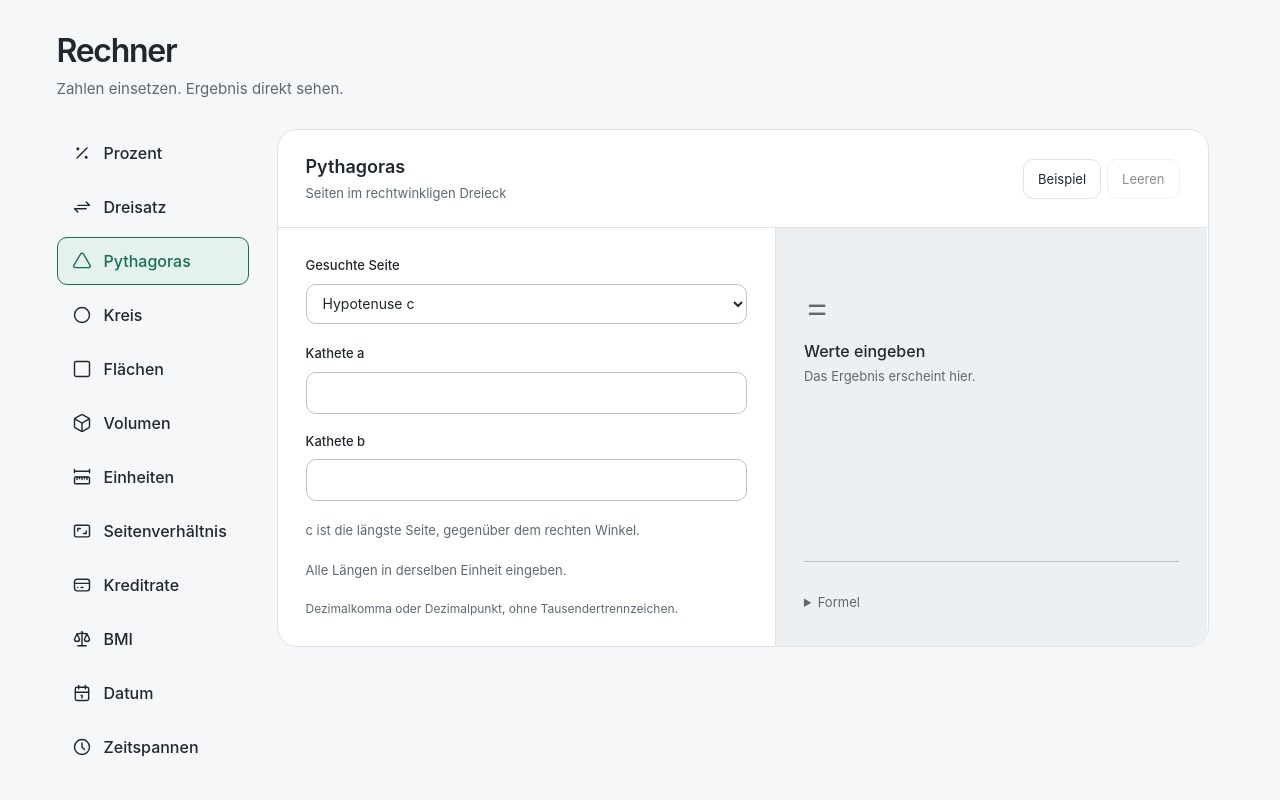
Test: calculator workspace › preserves each form when switching calculators and honours a legacy initial selection
The image size is (1280, 800).
Type "3" into the field labelled "Kathete a" at (526, 393), box [306,372,747,414]
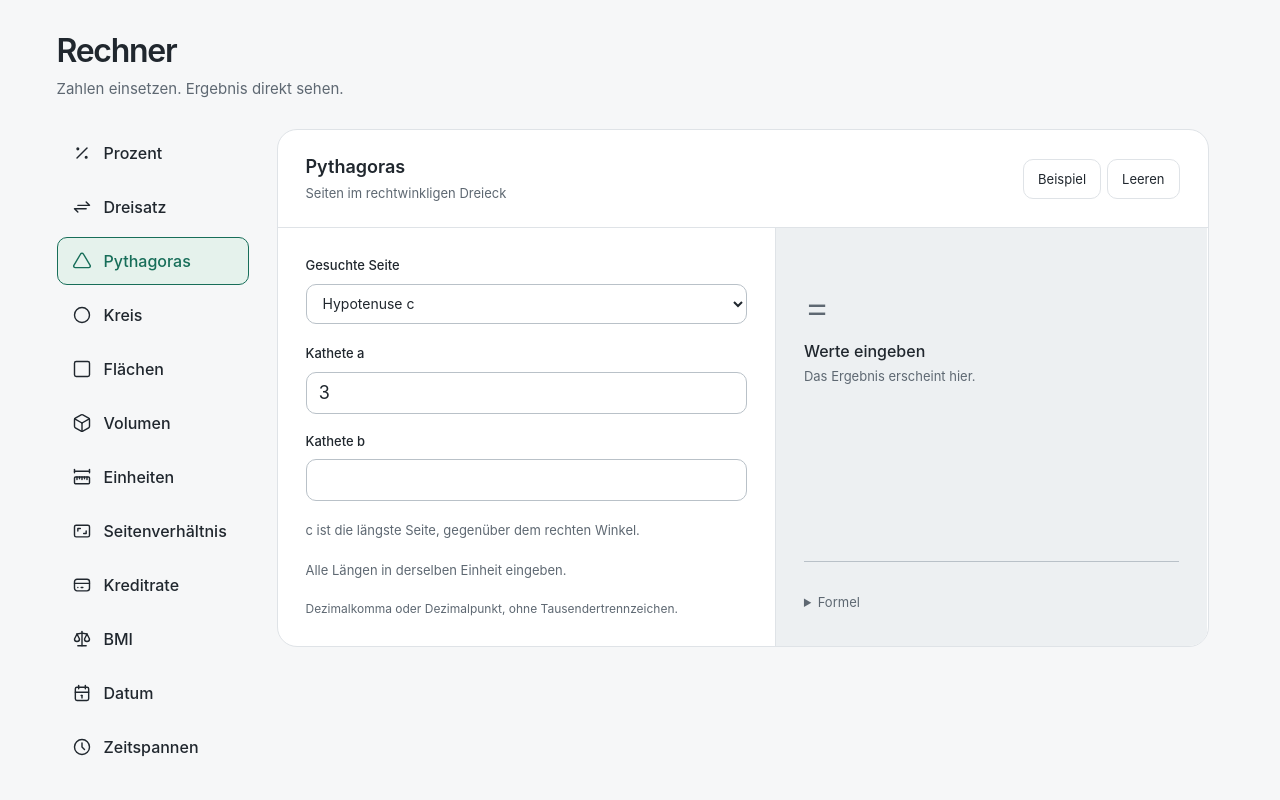
Type "4" into the field labelled "Kathete b" at (526, 480), box [306,459,747,502]
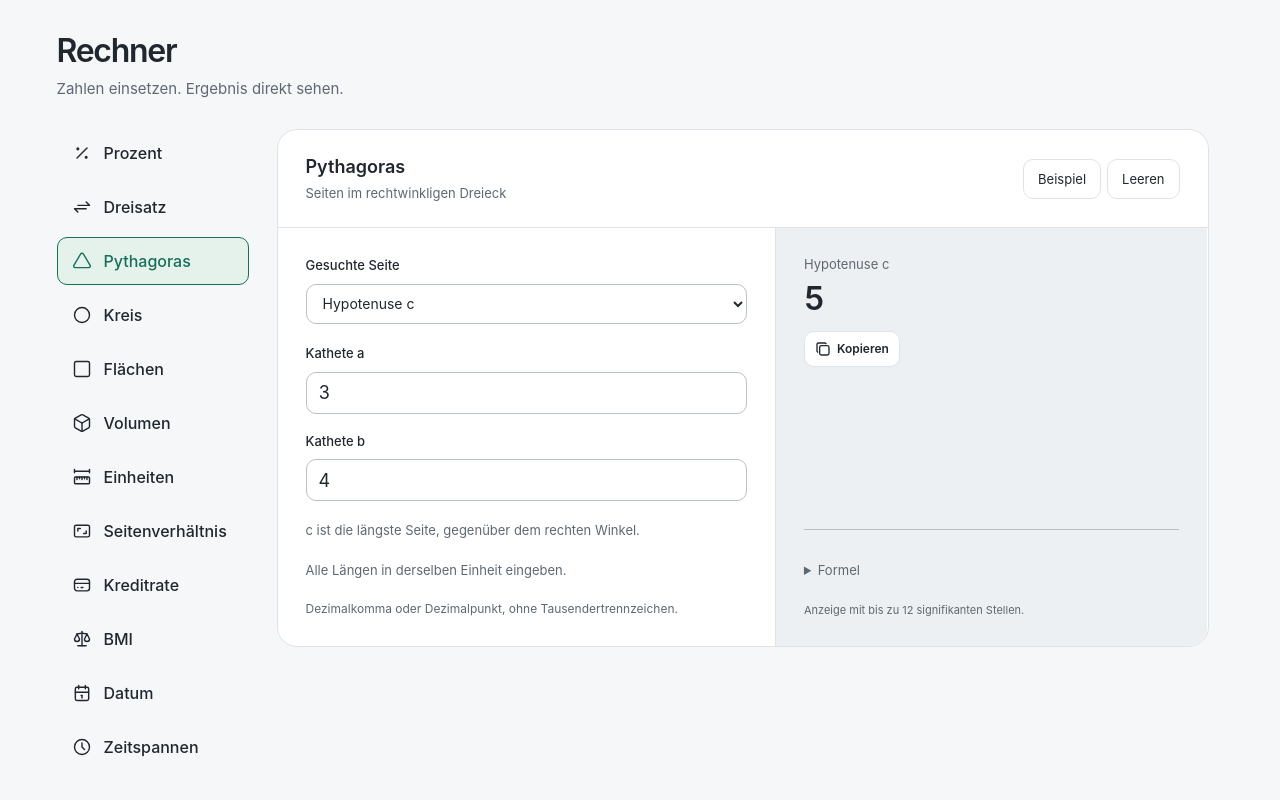
Check: the text with test id "result-c" reads "5", box [804,279,824,318]
Click the button "Kreis" at (152, 315), box [56,291,248,339]
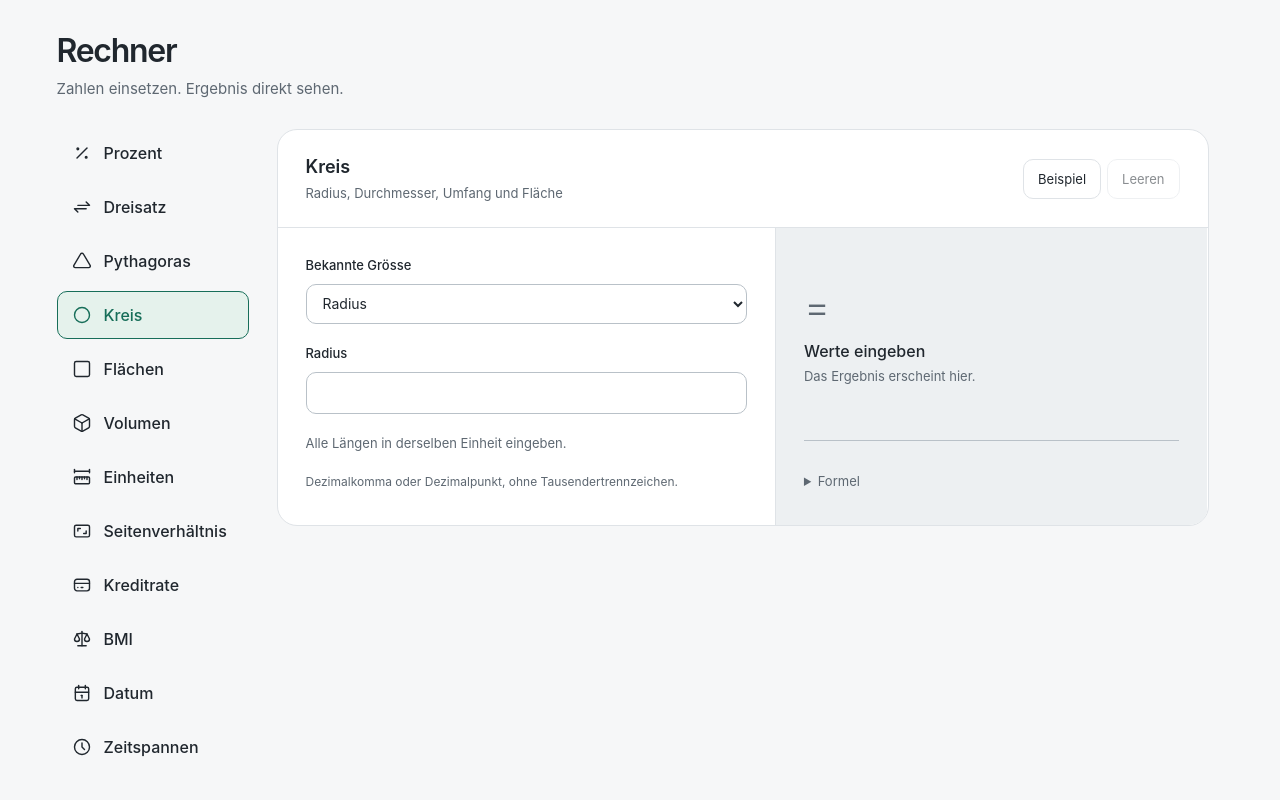
Click the button "Pythagoras" at (152, 261), box [56,237,248,285]
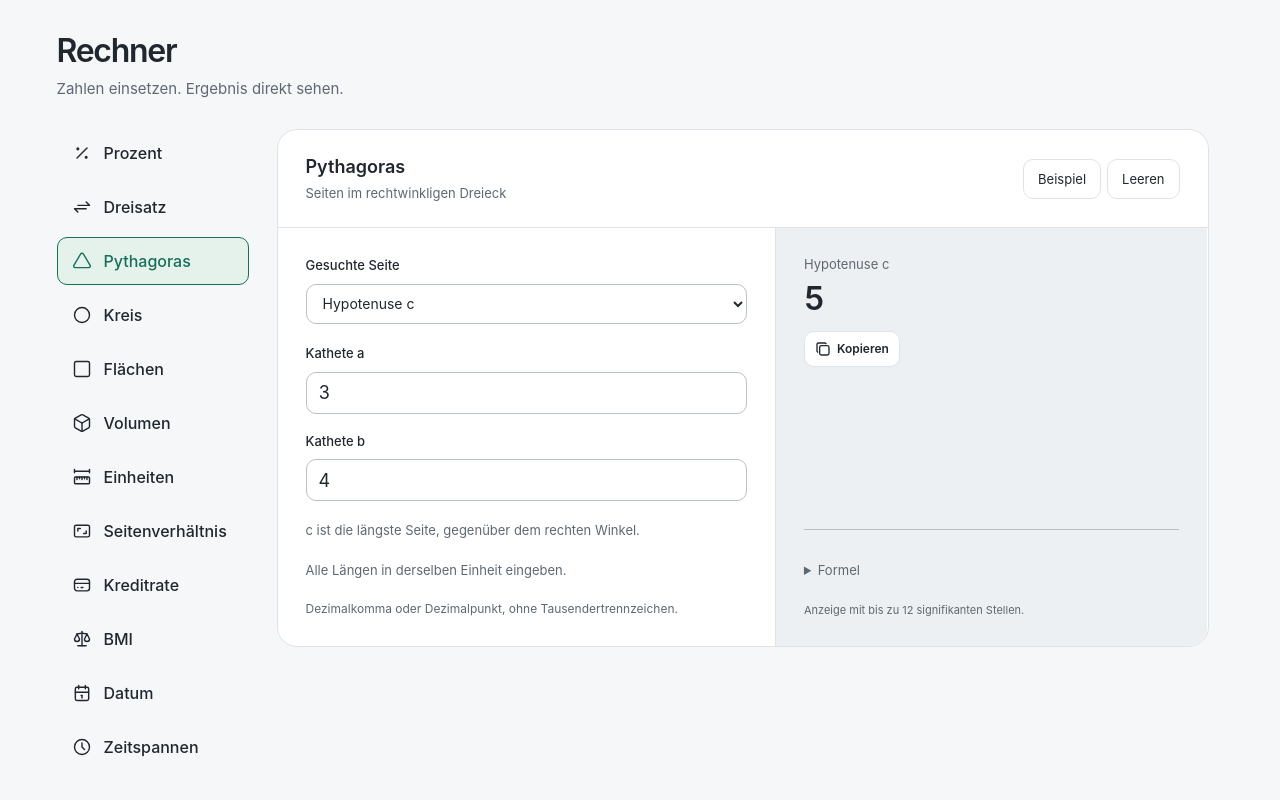
Check: the field labelled "Kathete a" holds "3", box [306,372,747,414]
Check: the text with test id "result-c" reads "5", box [804,279,824,318]
